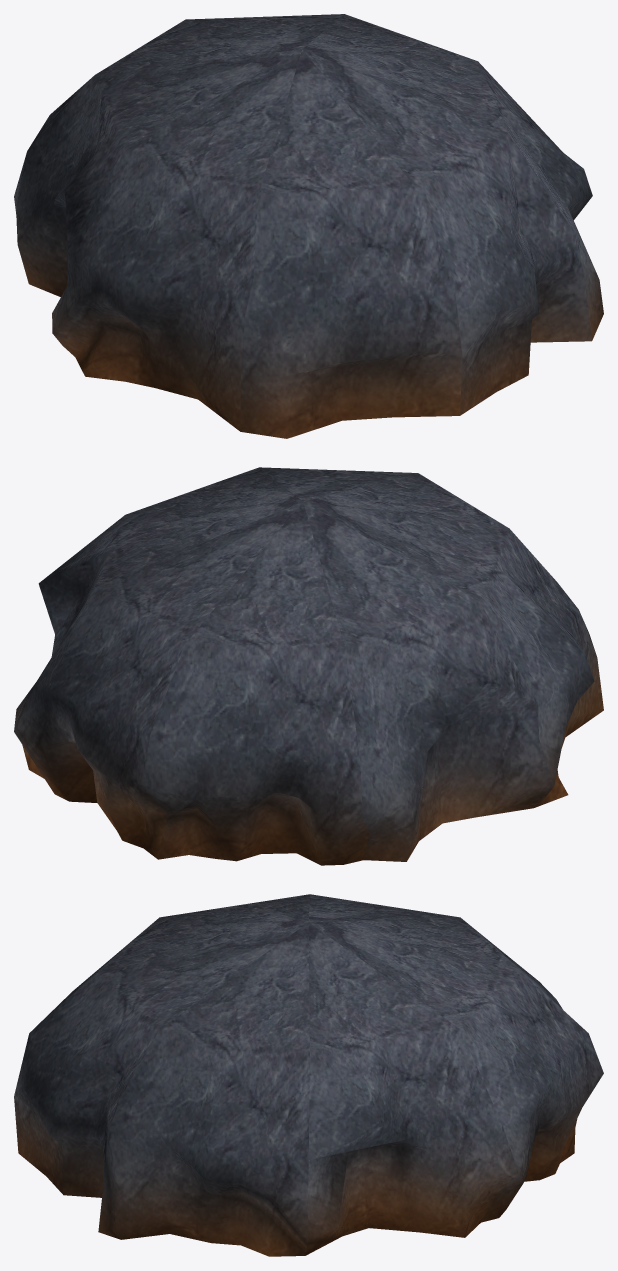
File: tlfb_shanti.FBX
The picture shows the model from 3 angles, top to bottom: view 1: azimuth 30°, elevation 25°; view 2: azimuth 150°, elevation 25°; view 3: azimuth 270°, elevation 25°; orthographic projection. The views are drawn at different scales.
Parts seen in each view (by area): view 1: tlfb_shanti; view 2: tlfb_shanti; view 3: tlfb_shanti.
Boxes of the visible parts, x1=… form: tlfb_shanti: x1=14, y1=14, x2=603, y2=438; tlfb_shanti: x1=14, y1=467, x2=603, y2=865; tlfb_shanti: x1=14, y1=894, x2=603, y2=1256.
Size of the model in its own units: 18607 by 8928 by 20660.
